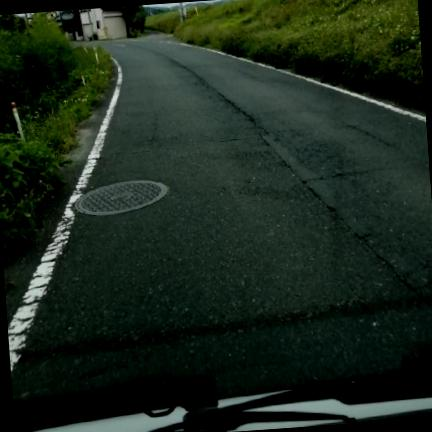Road: (11, 35, 431, 402)
